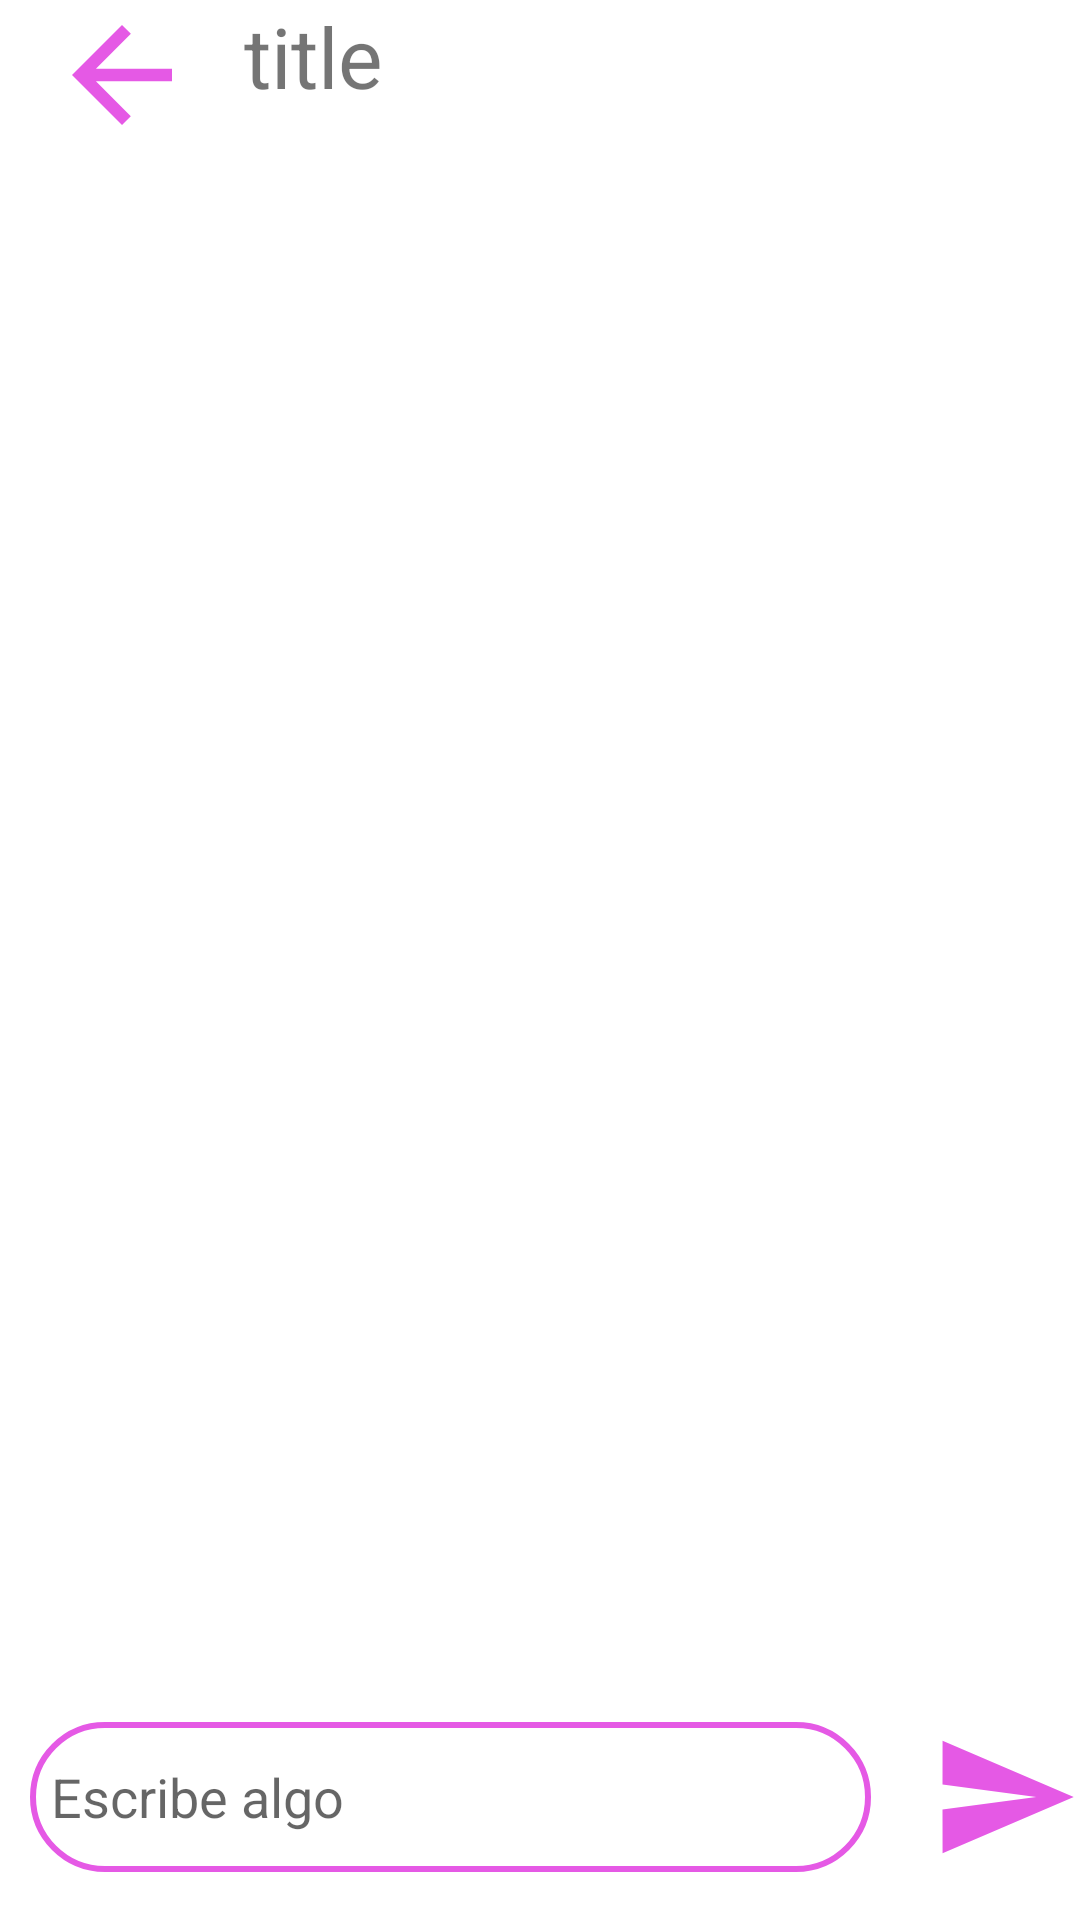

Icons on this 1080×1920 Android screen, each with its box as box=[x1, y1, x2, y2]:
arrow back: box=[72, 25, 172, 125]
